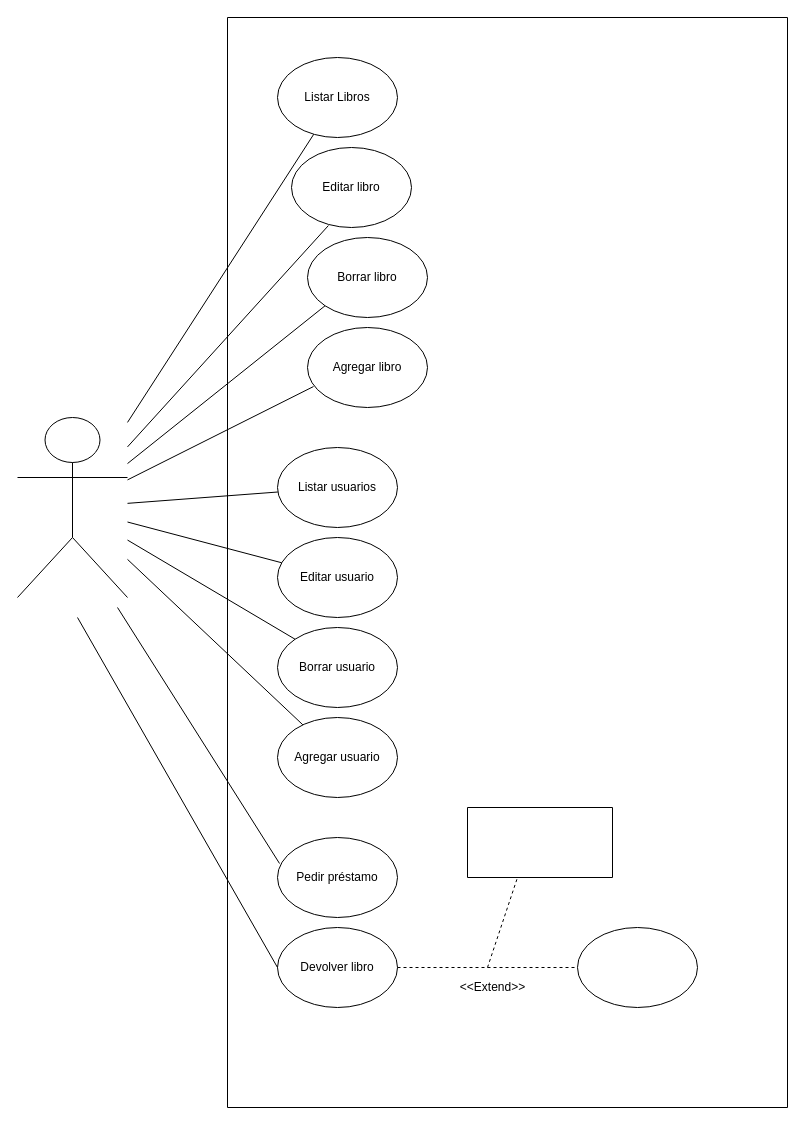
Some shapes in this 805 by 1125 pixel diagram are drawn without their labels. Here are the shapes that lost their labels. From the top down, the box of each, then its label:
(16, 416, 128, 598): Usuario
(466, 806, 612, 878): Condición: {Si devuelve el libro despues de los 15 dias}
(576, 926, 698, 1008): Sanción
